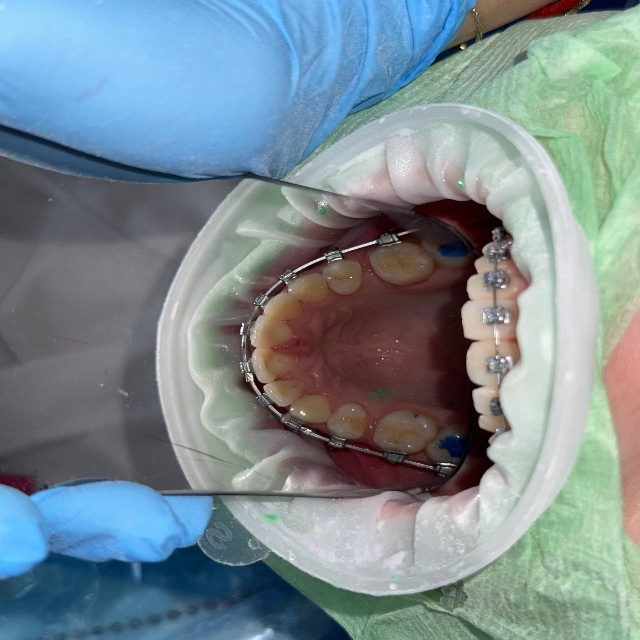clean_tooth: (130, 303, 176, 430), (0, 295, 34, 356), (453, 342, 474, 396)
plaque: (163, 0, 639, 178), (299, 485, 639, 639)
